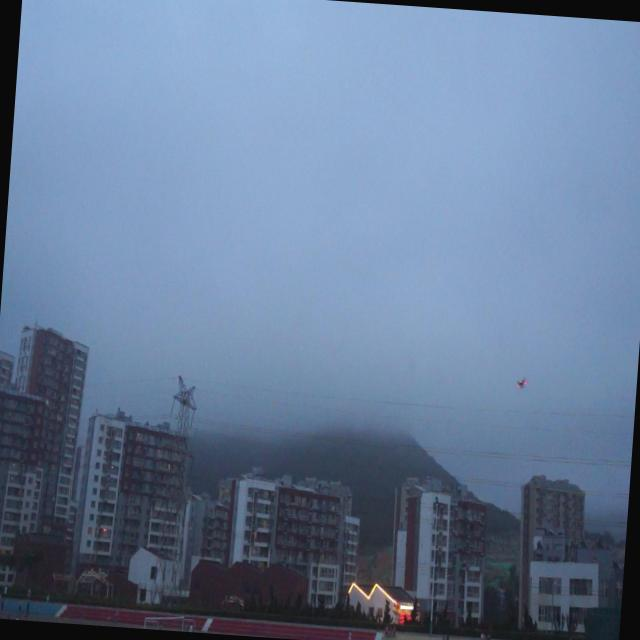drone: (514, 371, 528, 396)
